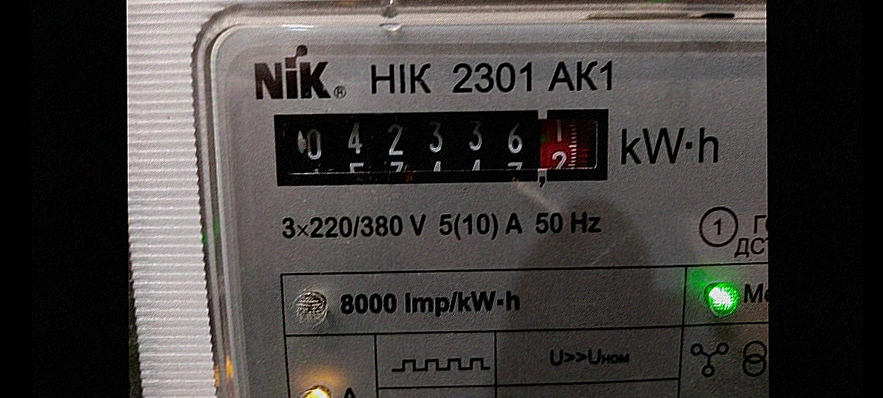0: (304, 125, 324, 160)
1: (552, 114, 565, 143)
2: (385, 120, 405, 156), (549, 148, 568, 169)
3: (426, 116, 445, 154), (464, 116, 484, 152)
4: (345, 117, 364, 155)
6: (503, 118, 525, 153)
screen: (266, 98, 619, 193)
